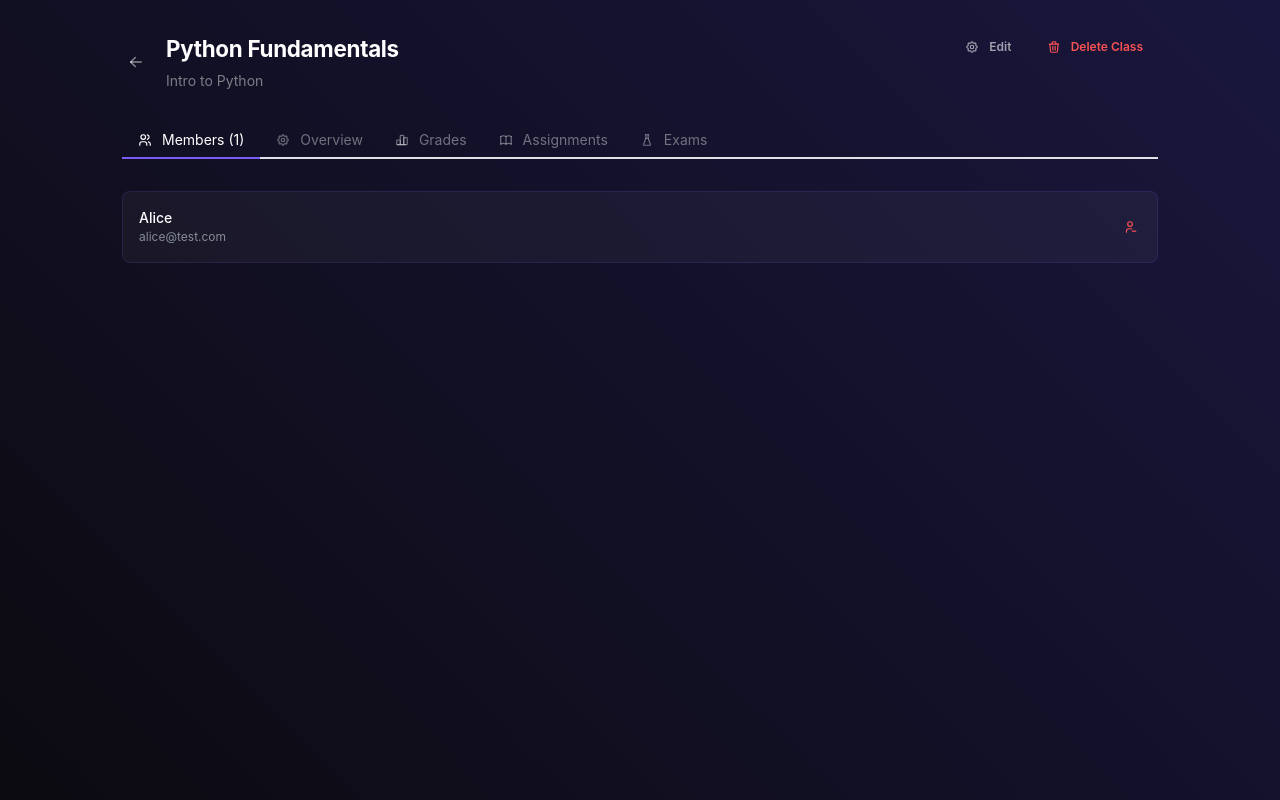
TeacherClassPage Component tests › should open edit popup when Edit button clicked
The image size is (1280, 800).
What coordinates should you click on to do the following:
click the button "Edit"
I would click on:
 (991, 47)
Its box is x1=955 y1=32 x2=1026 y2=62.
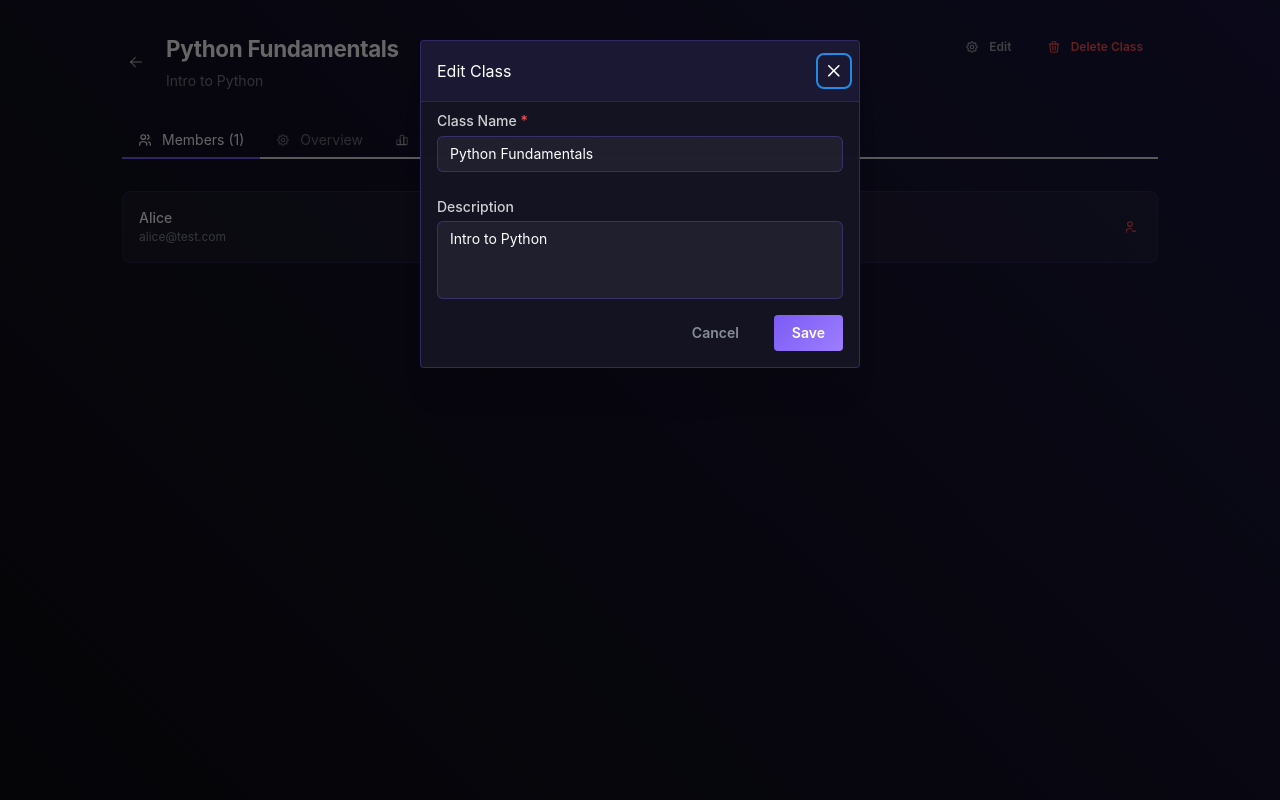
Expected: the heading "Edit Class" is shown, x1=437 y1=63 x2=512 y2=79
